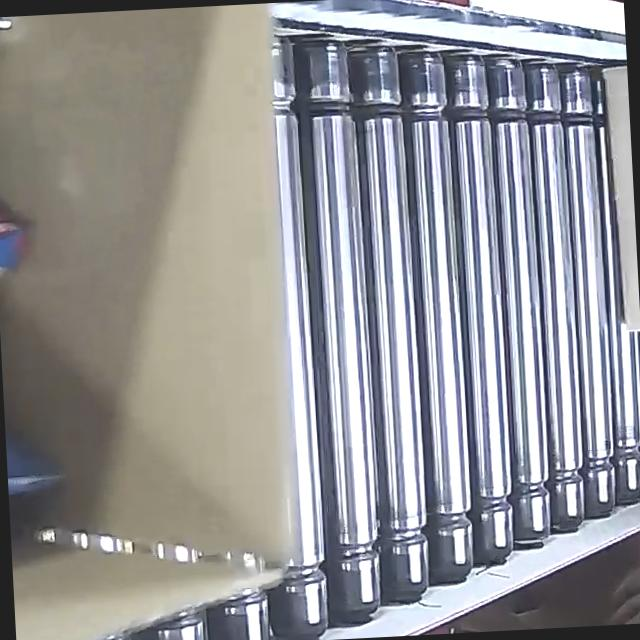paprika: (0, 13, 88, 577)
